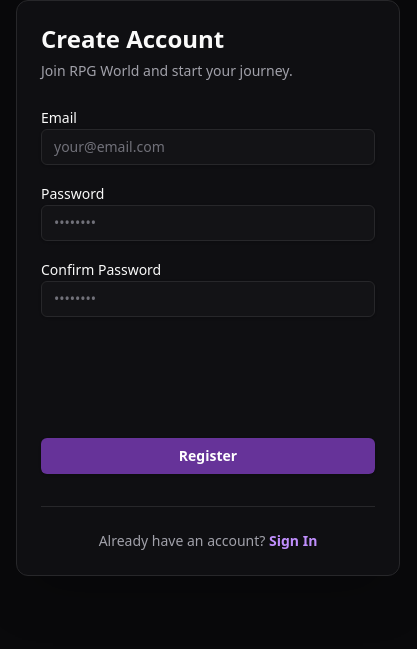
Test: SignUpForm › valida senha curta e senhas diferentes antes de enviar
In the field labelled "Email": (208, 147) [41,129,375,165], type "hero@example.com"
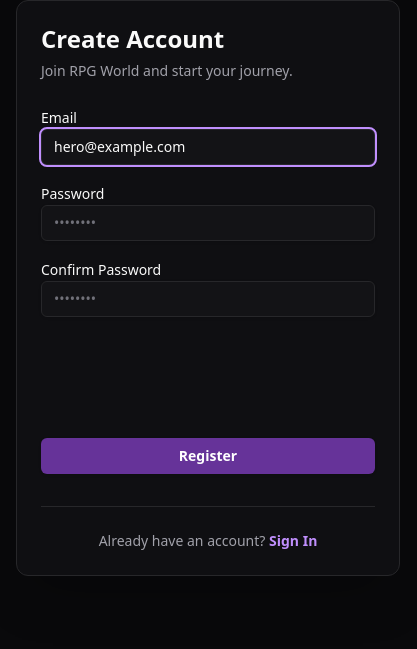
In the password field labelled "Password": (208, 223) [41,205,375,241], type "short"
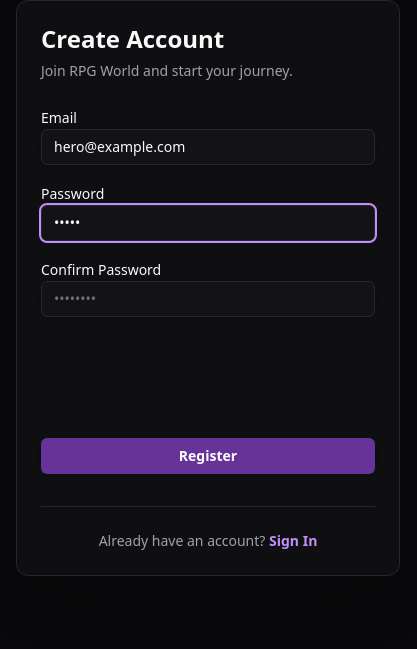
In the password field labelled "Confirm Password": (208, 299) [41,281,375,317], type "other"
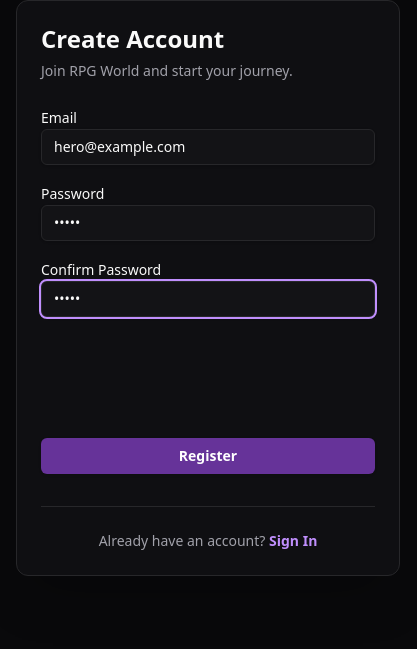
Click the button "Register": (208, 456) [41,438,375,474]
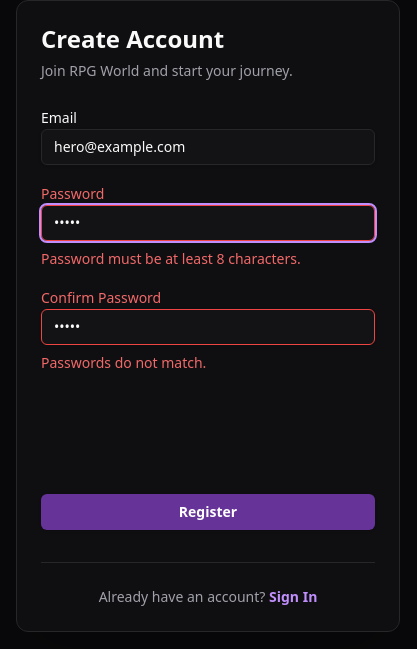
Expected: the text "Password must be at least 8 characters." is shown, [41,249,301,268]
Expected: the text "Passwords do not match." is shown, [41,353,206,372]
